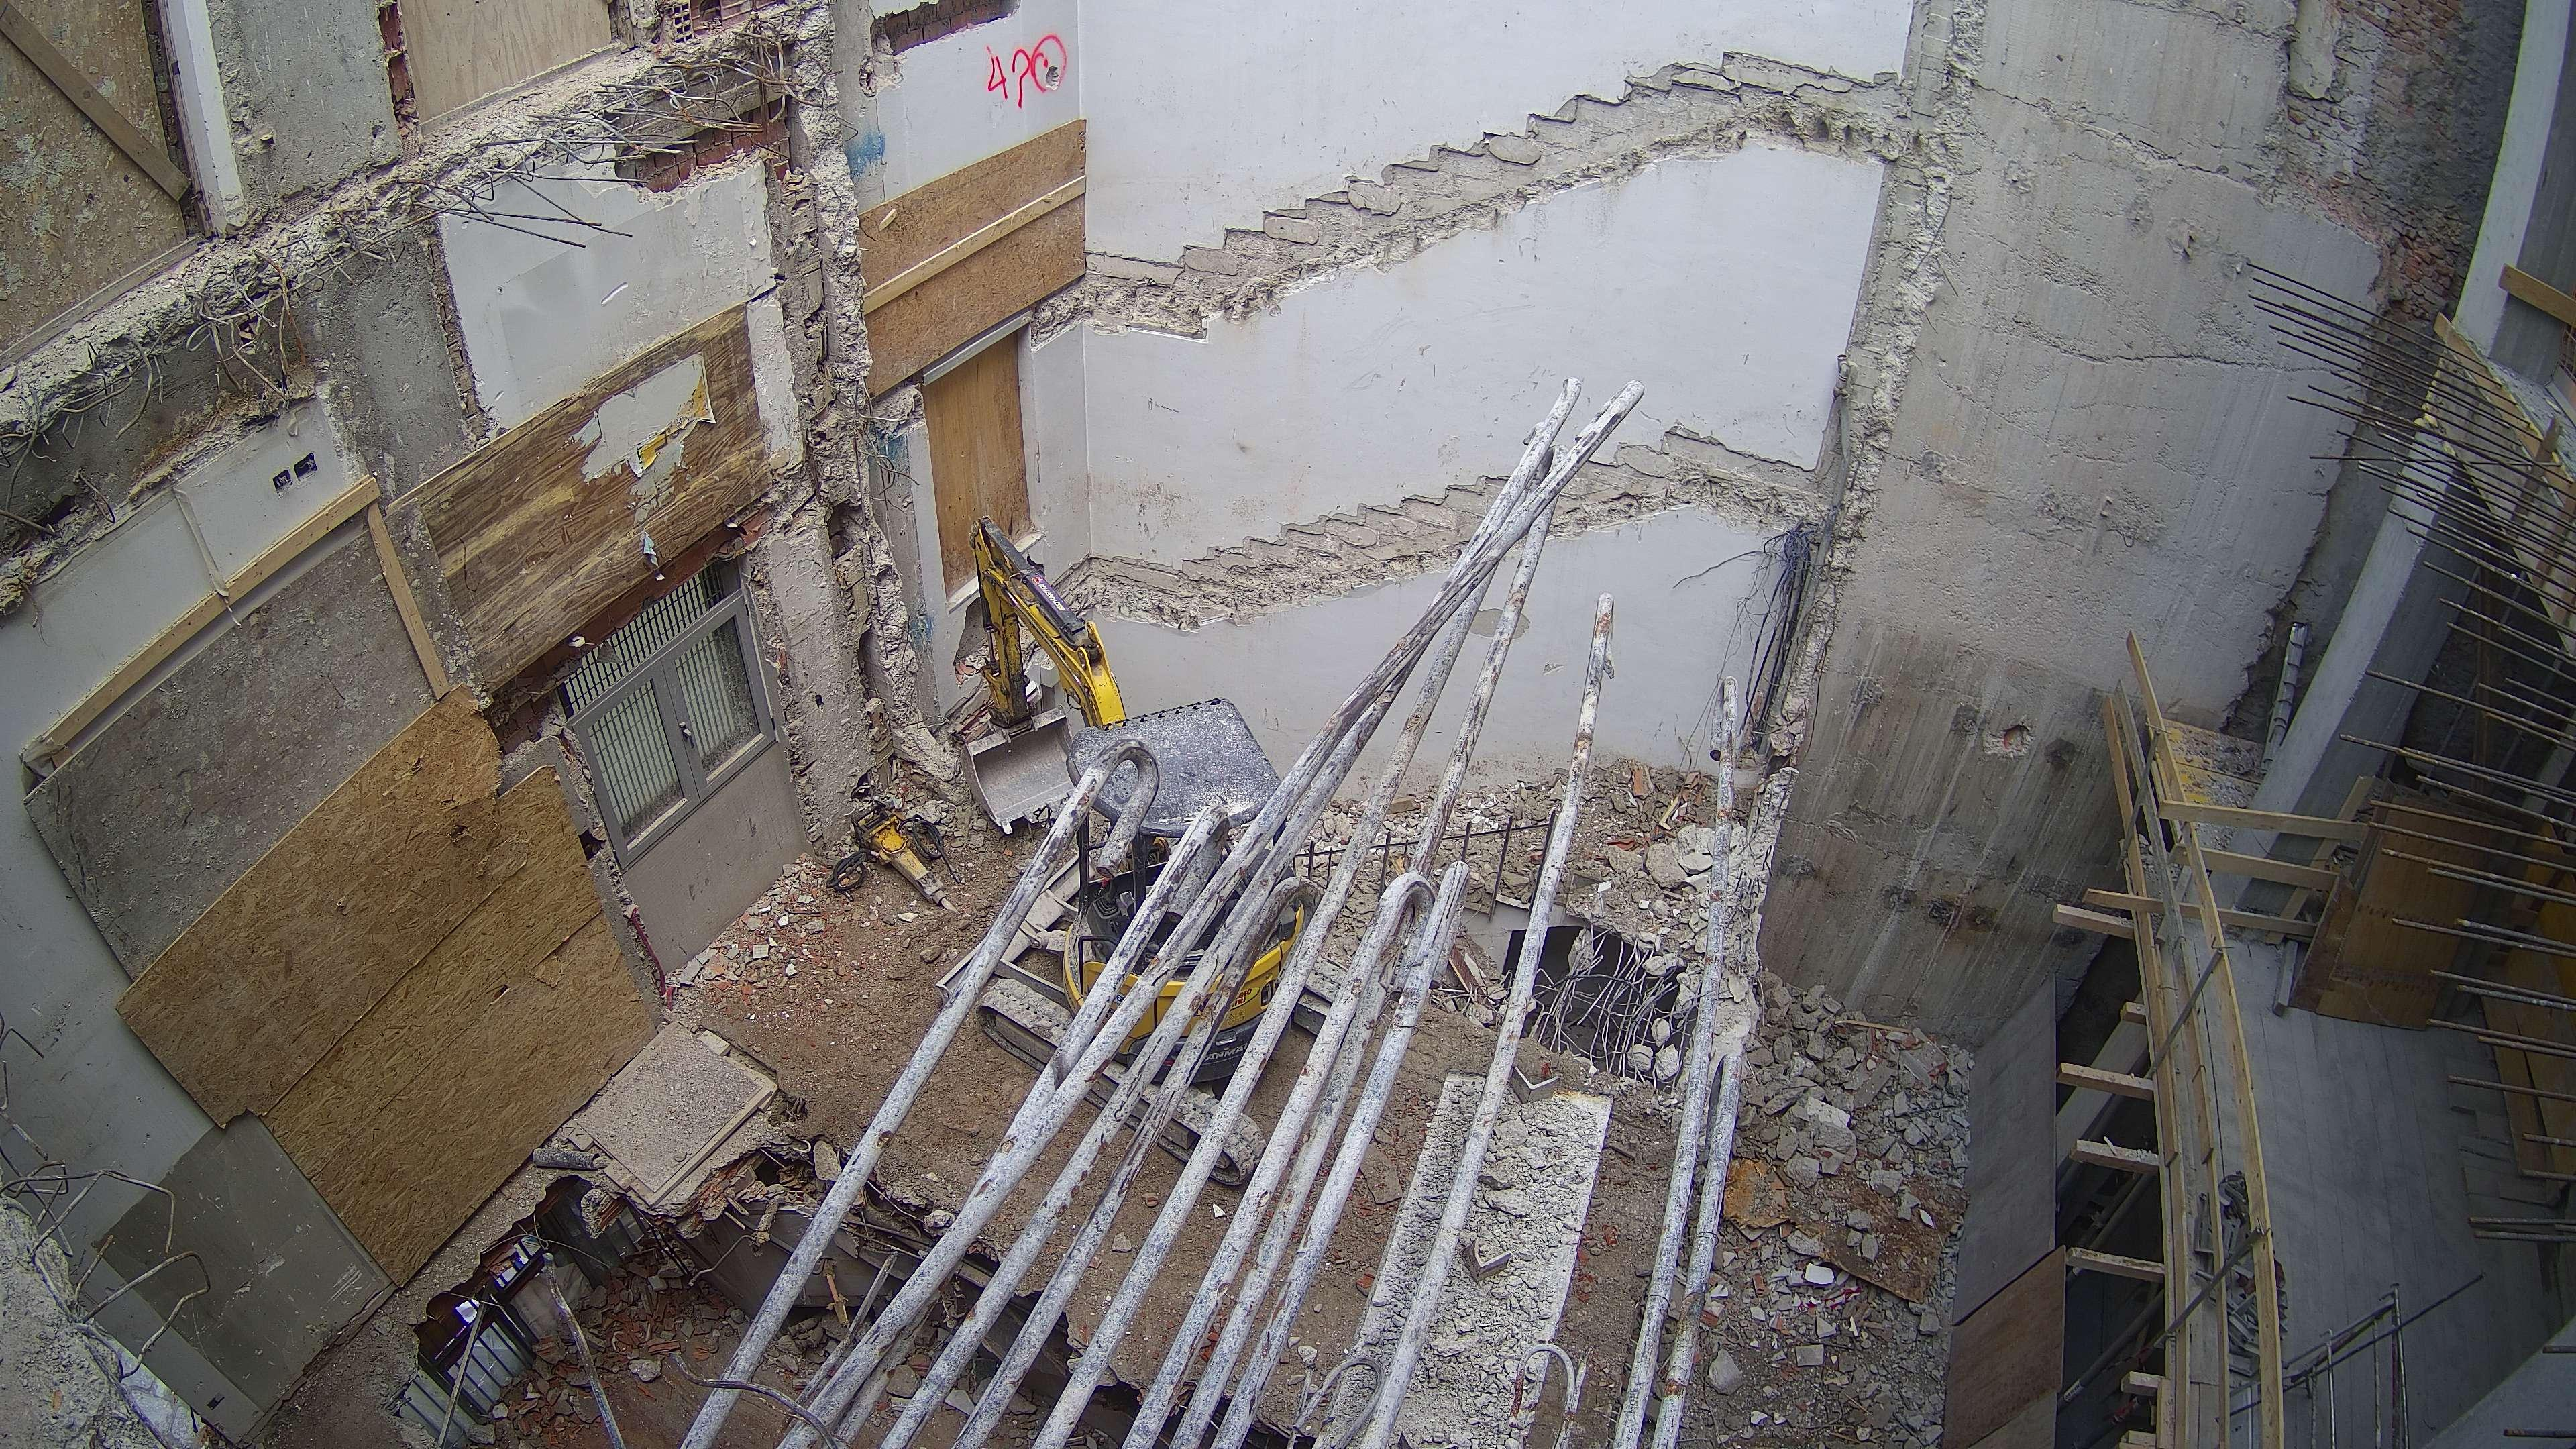excavator: (936, 513, 1350, 1187)
